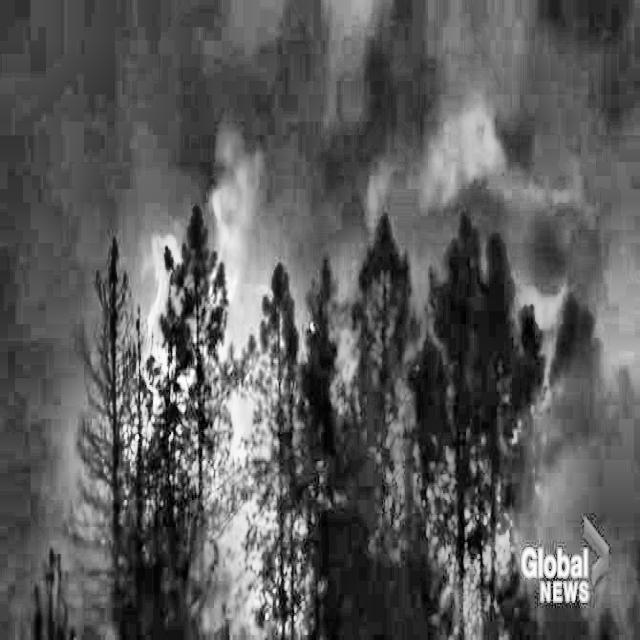fire: (130, 104, 292, 536)
